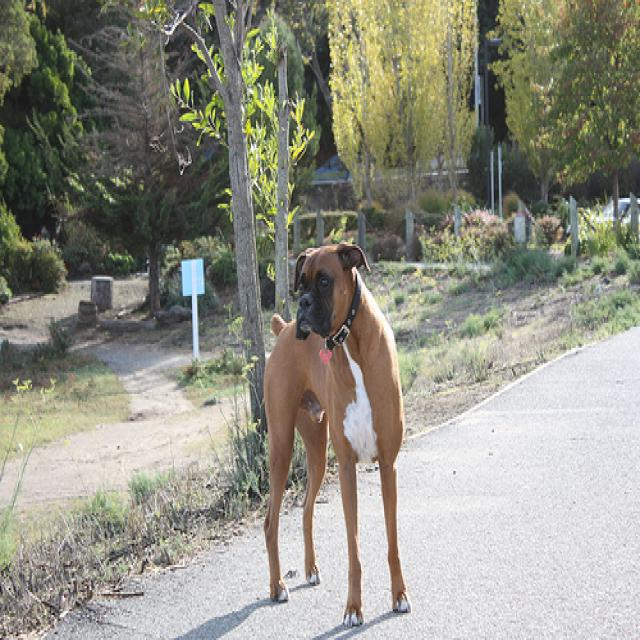dog-boxer: (259, 240, 415, 630)
